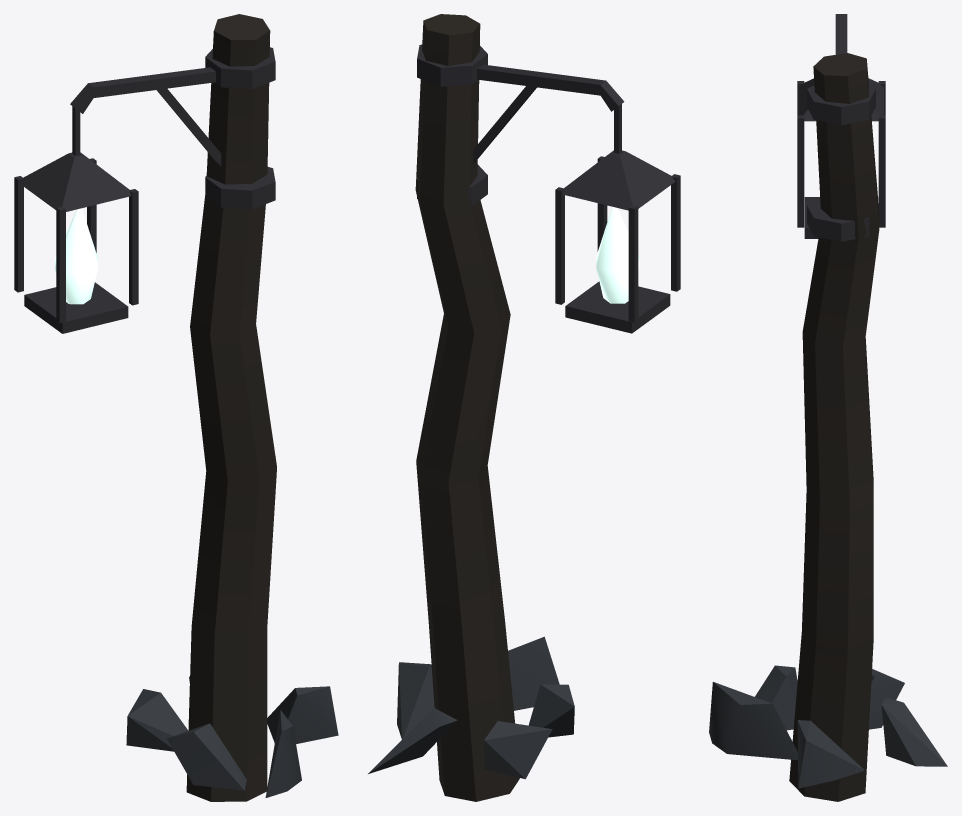
File: ShoreLantern.fbx
3 views of the same model, side by side, from view 1: azimuth 30°, elevation 25°; view 2: azimuth 150°, elevation 25°; view 3: azimuth 270°, elevation 25° (orthographic). The views are drawn at different scales.
Visible parts, largest first — view 1: ShoreLantern; view 2: ShoreLantern; view 3: ShoreLantern.
Part boxes in pixels (x1=…): ShoreLantern: x1=14, y1=14, x2=338, y2=801; ShoreLantern: x1=368, y1=14, x2=680, y2=801; ShoreLantern: x1=709, y1=14, x2=947, y2=801.
Size of the model in its own units: 0.778 by 2.01 by 0.5947.
